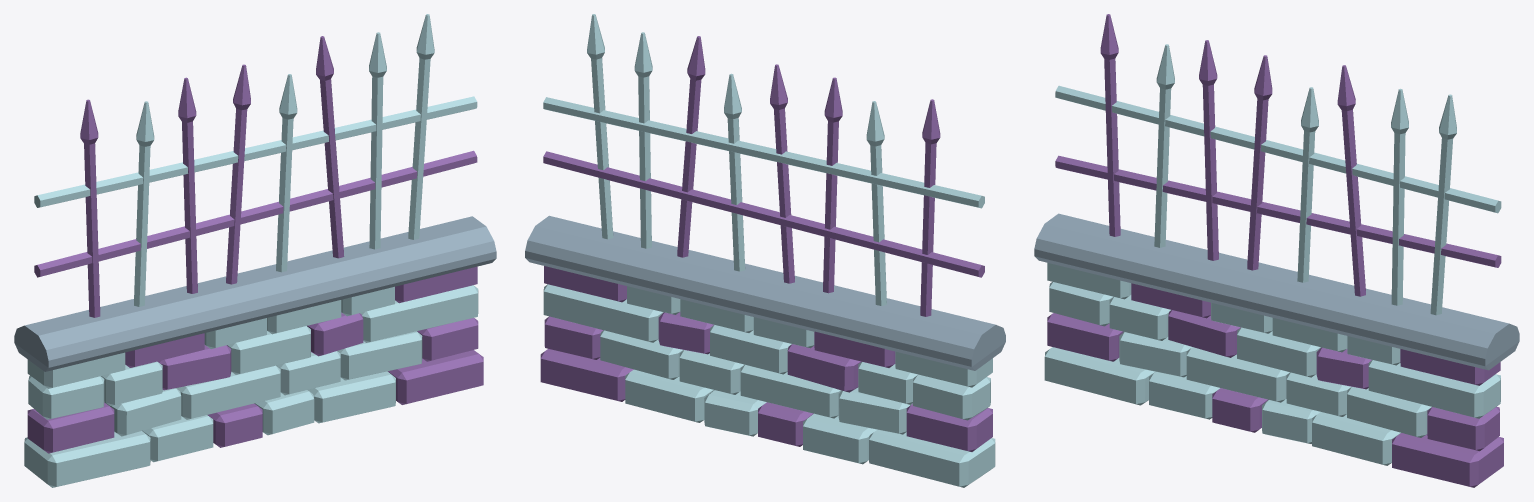
Rendered from SM_FenceA.fbx.
The picture shows the model from 3 angles, left to right: view 1: azimuth 30°, elevation 25°; view 2: azimuth 150°, elevation 25°; view 3: azimuth 330°, elevation 25°; orthographic projection.
Parts seen in each view (by area): view 1: FenceA; view 2: FenceA; view 3: FenceA.
Boxes of the visible parts, box(x1,y1,x2,y2) form: FenceA: box(14, 14, 496, 487); FenceA: box(525, 14, 1005, 487); FenceA: box(1034, 14, 1519, 487).
Bounding box in the file's own units: 524 × 419 × 76.9.
